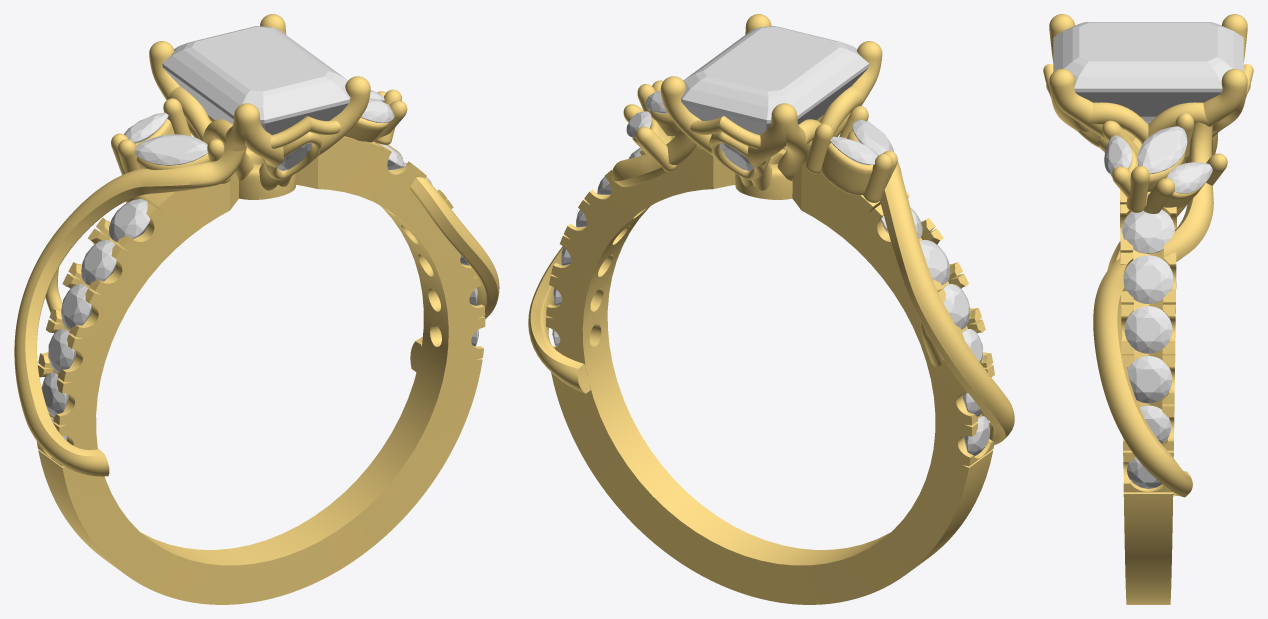
The model's file is StephanV4rotate_blender.glb.
3 renders of one model, left to right at view 1: azimuth 30°, elevation 25°; view 2: azimuth 150°, elevation 25°; view 3: azimuth 270°, elevation 25°, orthographic.
Parts seen in each view (by area): view 1: V4 Stephan YG for 3d model, V4 Stephan dia for 3d model.018, V4 Stephan dia for 3d model.011, V4 Stephan dia for 3d model.012, V4 Stephan dia for 3d model.013, V4 Stephan dia for 3d model.014, V4 Stephan dia for 3d model.015, V4 Stephan dia for 3d model.016, V4 Stephan dia for 3d model.010; view 2: V4 Stephan YG for 3d model, V4 Stephan dia for 3d model.018, V4 Stephan dia for 3d model.014, V4 Stephan dia for 3d model.013, V4 Stephan dia for 3d model.011, V4 Stephan dia for 3d model.010; view 3: V4 Stephan YG for 3d model, V4 Stephan dia for 3d model.018, V4 Stephan dia for 3d model.008, V4 Stephan dia for 3d model.007, V4 Stephan dia for 3d model.009, V4 Stephan dia for 3d model.019, V4 Stephan dia for 3d model.006, V4 Stephan dia for 3d model, V4 Stephan dia for 3d model.001, V4 Stephan dia for 3d model.005, V4 Stephan dia for 3d model.004.
Part boxes in pixels (x1,y1,x2,y2): V4 Stephan YG for 3d model: (14,14,499,604); V4 Stephan dia for 3d model.018: (162,26,350,134); V4 Stephan dia for 3d model.011: (134,134,207,165); V4 Stephan dia for 3d model.012: (109,199,150,241); V4 Stephan dia for 3d model.013: (81,240,116,285); V4 Stephan dia for 3d model.014: (61,284,91,329); V4 Stephan dia for 3d model.015: (48,329,75,372); V4 Stephan dia for 3d model.016: (41,372,68,416); V4 Stephan dia for 3d model.010: (124,112,168,143); V4 Stephan YG for 3d model: (528,14,1014,604); V4 Stephan dia for 3d model.018: (681,26,868,134); V4 Stephan dia for 3d model.014: (943,284,970,329); V4 Stephan dia for 3d model.013: (920,240,950,285); V4 Stephan dia for 3d model.011: (852,119,893,155); V4 Stephan dia for 3d model.010: (830,136,878,164); V4 Stephan YG for 3d model: (1043,14,1253,604); V4 Stephan dia for 3d model.018: (1053,22,1243,124); V4 Stephan dia for 3d model.008: (1123,255,1173,303); V4 Stephan dia for 3d model.007: (1124,306,1172,353); V4 Stephan dia for 3d model.009: (1122,210,1174,253); V4 Stephan dia for 3d model.019: (1137,126,1187,174); V4 Stephan dia for 3d model.006: (1127,356,1172,403); V4 Stephan dia for 3d model: (1167,162,1212,193); V4 Stephan dia for 3d model.001: (1104,135,1132,174); V4 Stephan dia for 3d model.005: (1139,405,1170,443); V4 Stephan dia for 3d model.004: (1127,456,1161,488).
Bounding box in the file's own units: 23.19 × 24.99 × 8.83.
